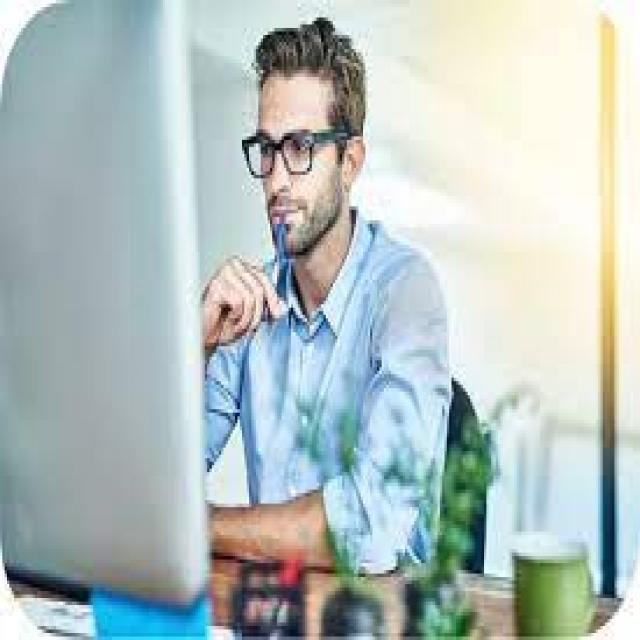Glasses: (236, 126, 348, 184)
